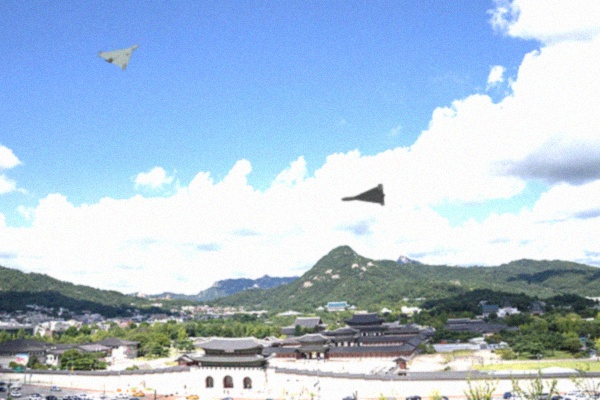shahed: (96, 42, 139, 71), (340, 181, 386, 207)
